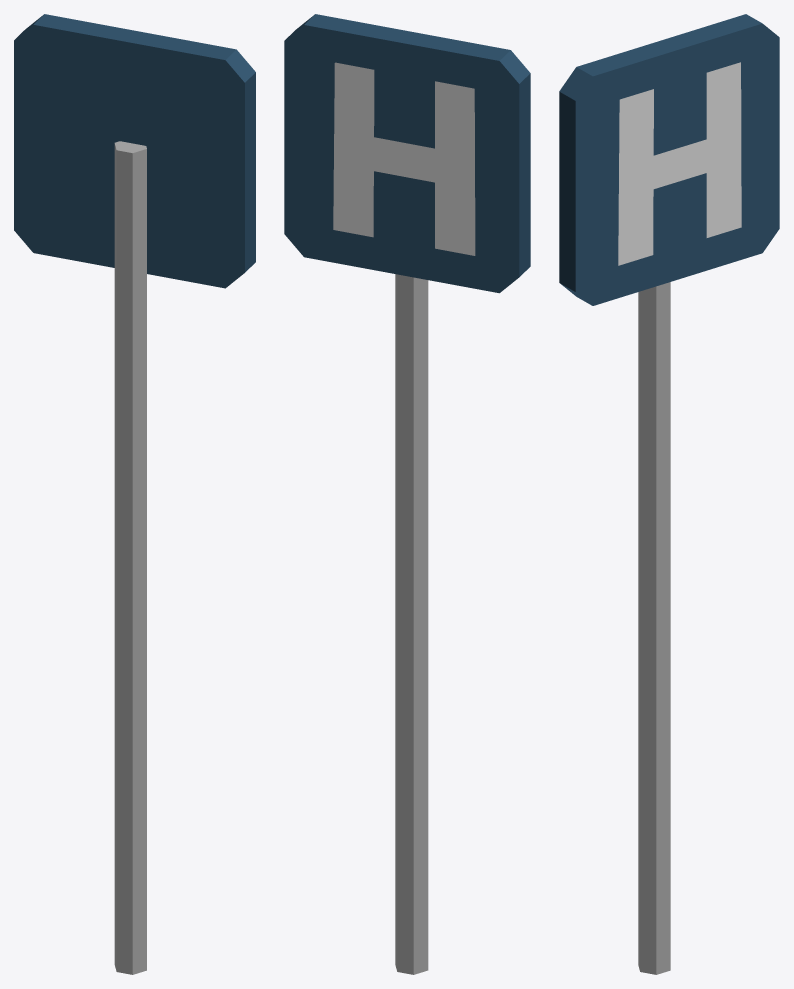
File: Hospital Sign.fbx
The picture shows the model from 3 angles, left to right: view 1: azimuth 30°, elevation 25°; view 2: azimuth 210°, elevation 25°; view 3: azimuth 270°, elevation 25°; orthographic projection.
Parts seen in each view (by area): view 1: Hospital Sign; view 2: Hospital Sign; view 3: Hospital Sign.
Part boxes in pixels (x1,y1,x2,y2): Hospital Sign: (14,14,255,974); Hospital Sign: (284,14,530,974); Hospital Sign: (559,14,779,974).
Size of the model in its own units: 57.9 by 73.82 by 343.
